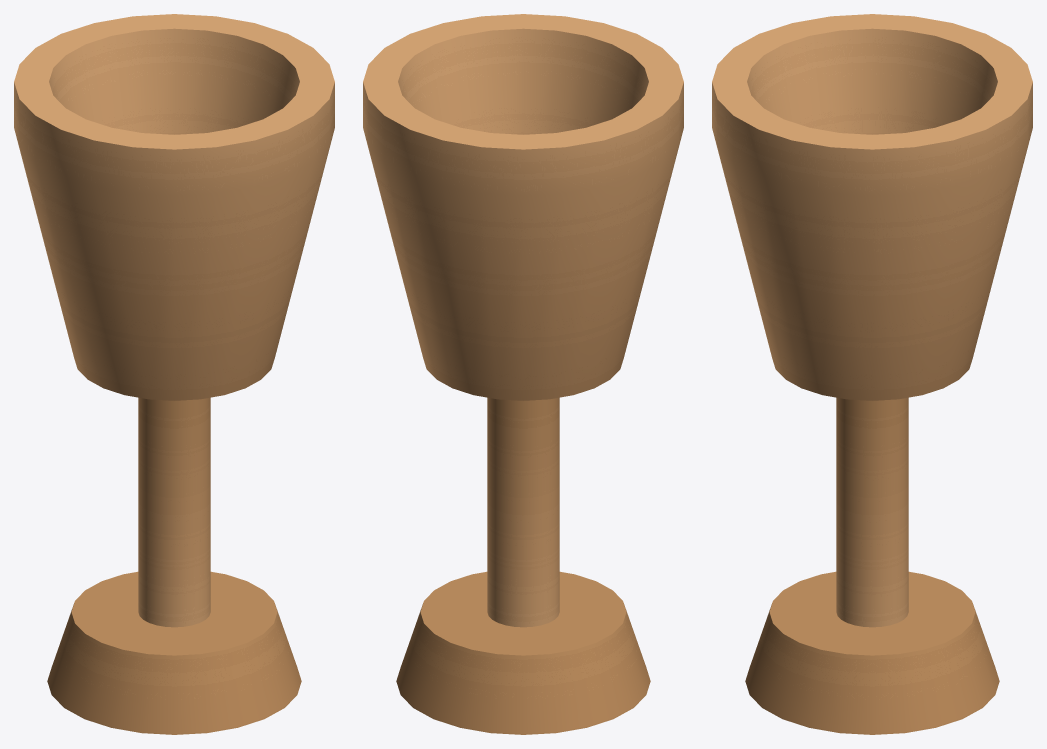
File: detail-chalice.glb
The picture shows the model from 3 angles, left to right: view 1: azimuth 30°, elevation 25°; view 2: azimuth 150°, elevation 25°; view 3: azimuth 270°, elevation 25°; orthographic projection.
Visible parts, largest first — view 1: detail-chalice; view 2: detail-chalice; view 3: detail-chalice.
Part boxes in pixels (x1,y1,x2,y2): detail-chalice: (14, 14, 334, 734); detail-chalice: (363, 14, 683, 734); detail-chalice: (712, 14, 1032, 734).
Bounding box in the file's own units: 0.2903 × 0.5984 × 0.2903.
Materials: 1 (1 with a texture image).
